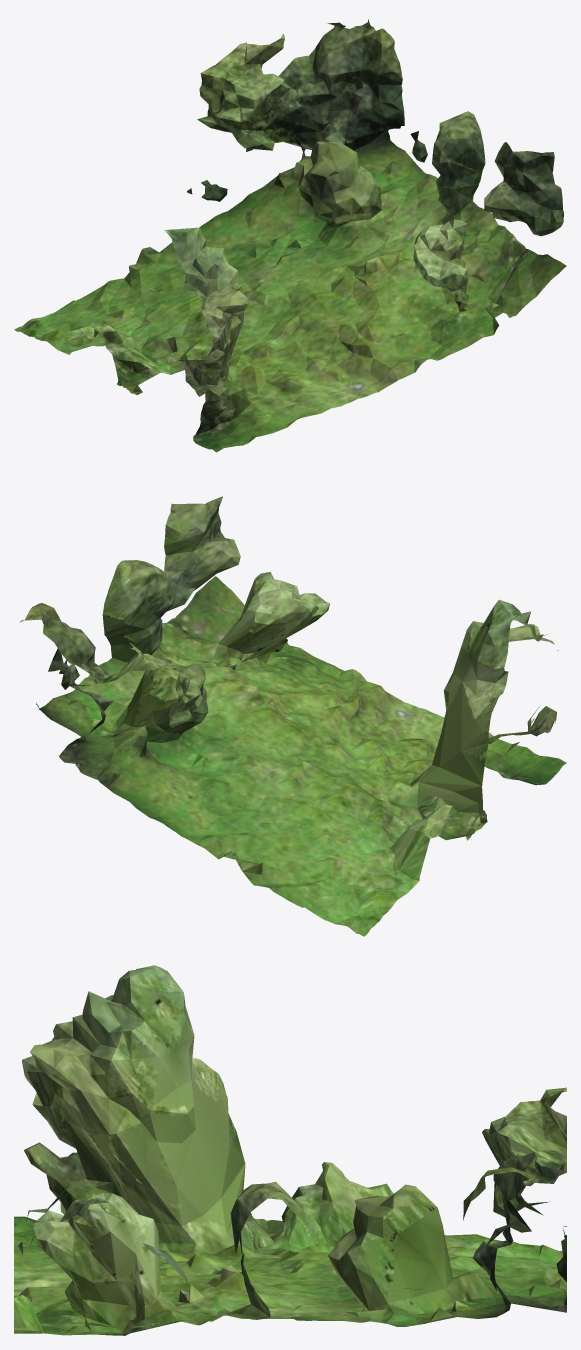
The picture shows the model from 3 angles, top to bottom: view 1: azimuth 30°, elevation 25°; view 2: azimuth 150°, elevation 25°; view 3: azimuth 270°, elevation 25°; orthographic projection. The views are drawn at different scales.
Size of the model in its own units: 26.11 by 16.41 by 26.11.
Materials: 4 (4 with a texture image).
